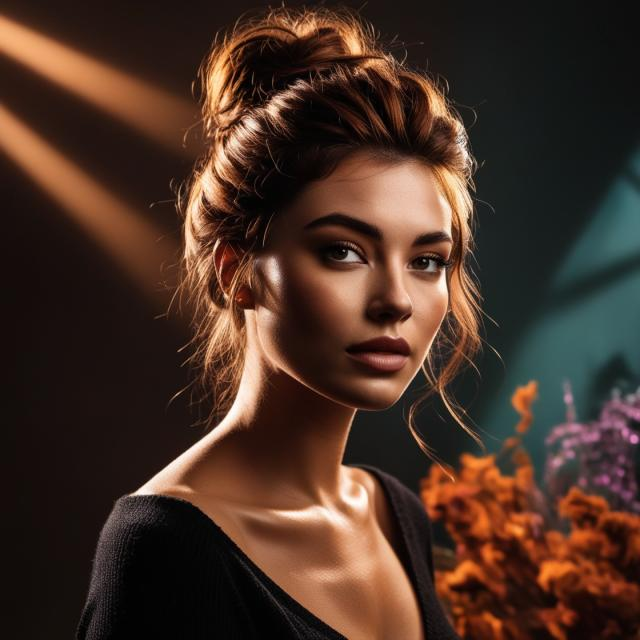front: (284, 188, 448, 390)
